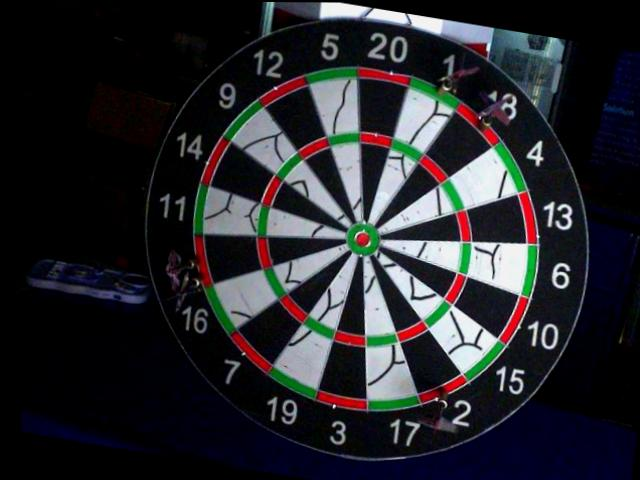double_1: (412, 80, 456, 107)
double_18: (456, 107, 499, 145)
double_2: (419, 378, 464, 404)
double_8: (193, 235, 214, 289)
